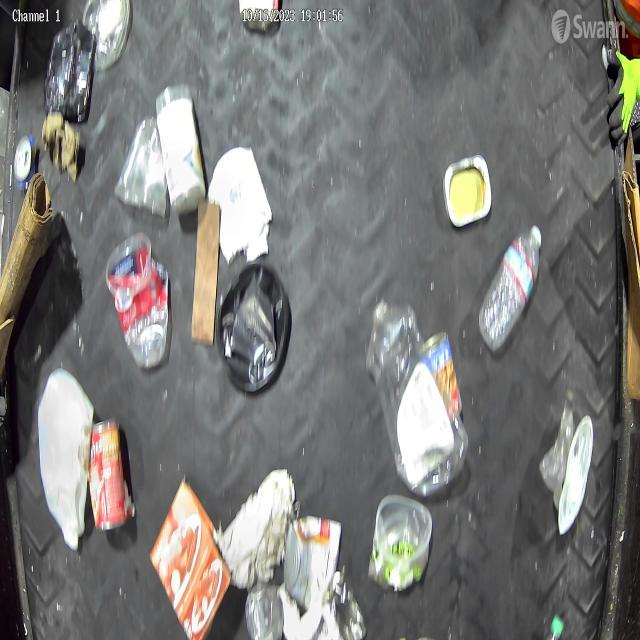can: (285, 517, 343, 609), (89, 419, 130, 532), (442, 153, 492, 229), (424, 330, 462, 418), (14, 130, 39, 192)
milk_jug: (39, 368, 94, 552)
non_white_jug: (216, 258, 290, 394), (44, 21, 96, 127)
plastic_bottle: (477, 225, 542, 352)
